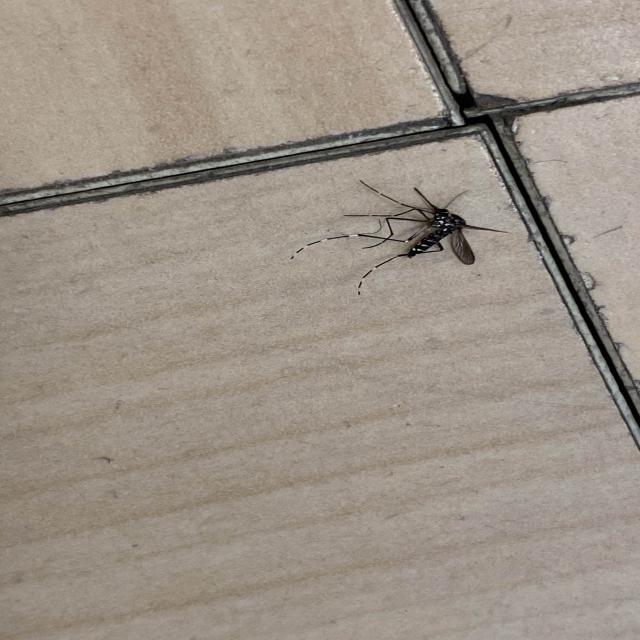albopictus: (290, 176, 515, 299)
